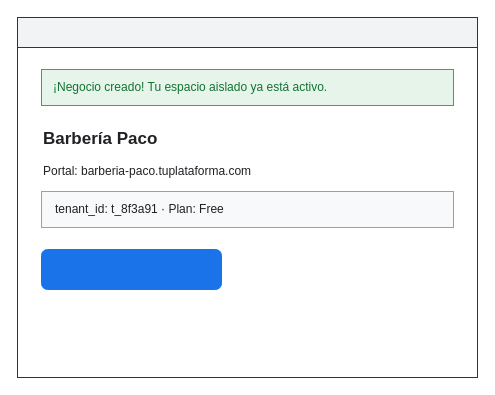
Some shapes in this 495 by 395 pixel diagram are drawn without their labels. Each missing label, with the centre of its shape:
Ir a mi panel: the point at 131,269
registro.tuplataforma.com: the point at 247,32
